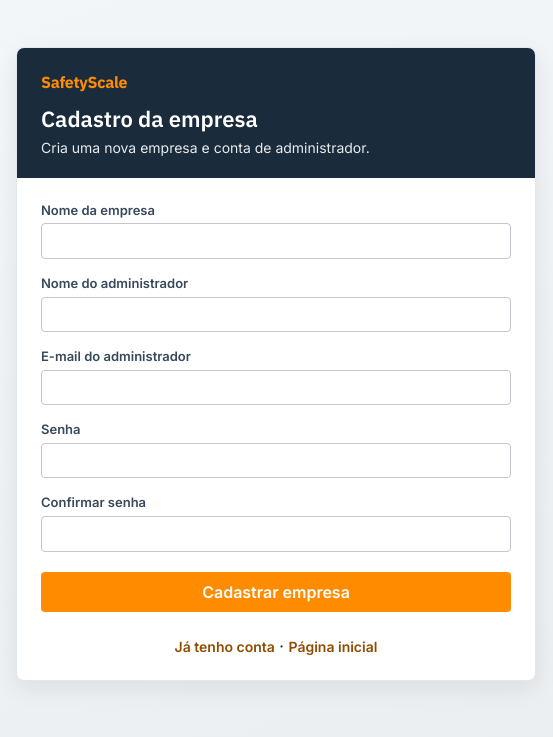
it: RegisterTenantPage › shows mismatch error when passwords differ
Type "Empresa LTDA" into the field labelled "Nome da empresa".
click(276, 241); type("Empresa LTDA")  # box [41,223,511,259]
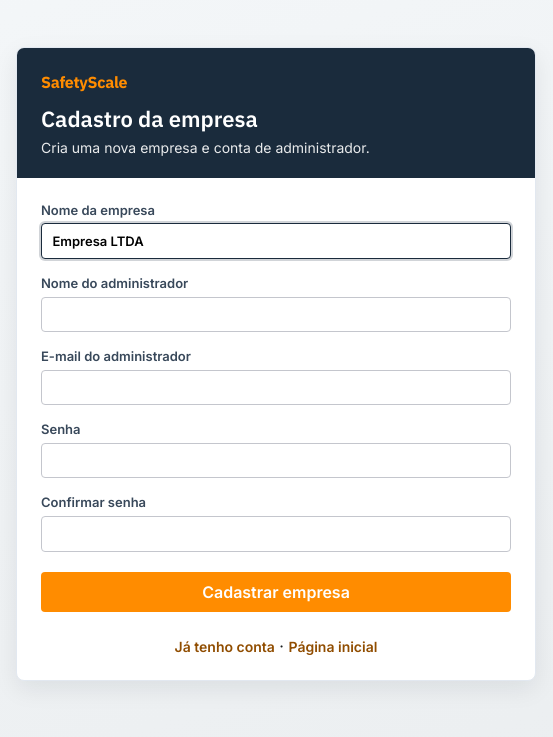
Type "Maria" into the field labelled "Nome do administrador".
click(276, 314); type("Maria")  # box [41,296,511,332]
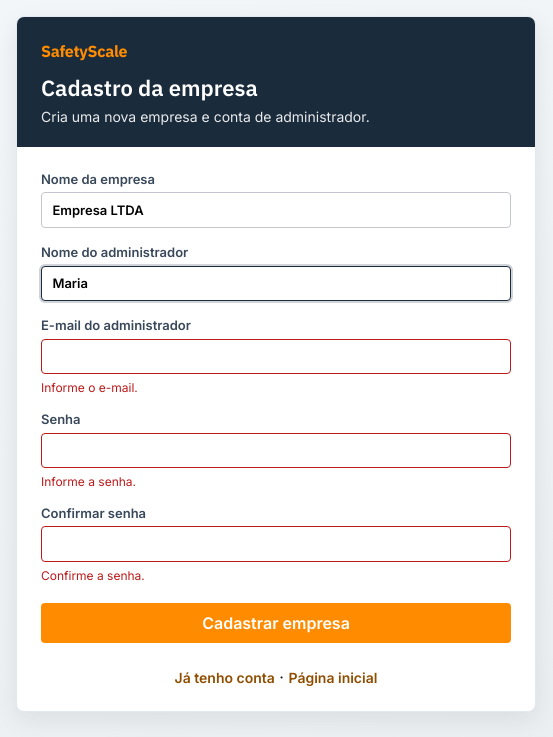
Type "maria@test.local" into the field labelled "E-mail do administrador Informe o e-mail.".
click(276, 357); type("maria@test.local")  # box [41,339,511,374]
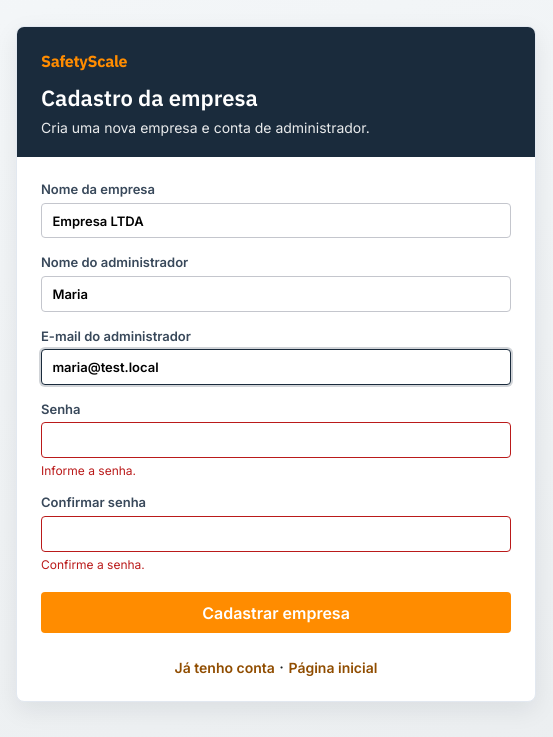
Type "Aa!23456z" into the password field labelled "Senha Informe a senha.".
click(276, 440); type("Aa!23456z")  # box [41,422,511,458]
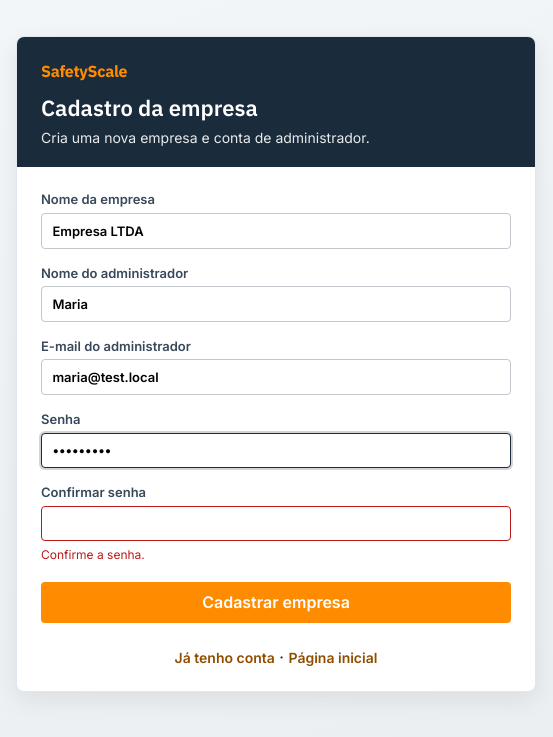
Type "Other!123Aa" into the password field labelled "Confirmar senha Confirme a senha.".
click(276, 524); type("Other!123Aa")  # box [41,506,511,541]
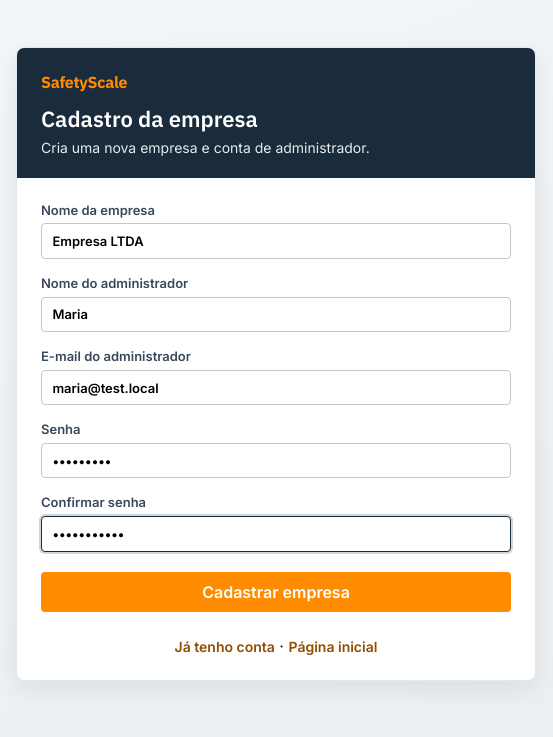
Click the button "Cadastrar empresa".
click(276, 592)  # box [41,572,511,612]
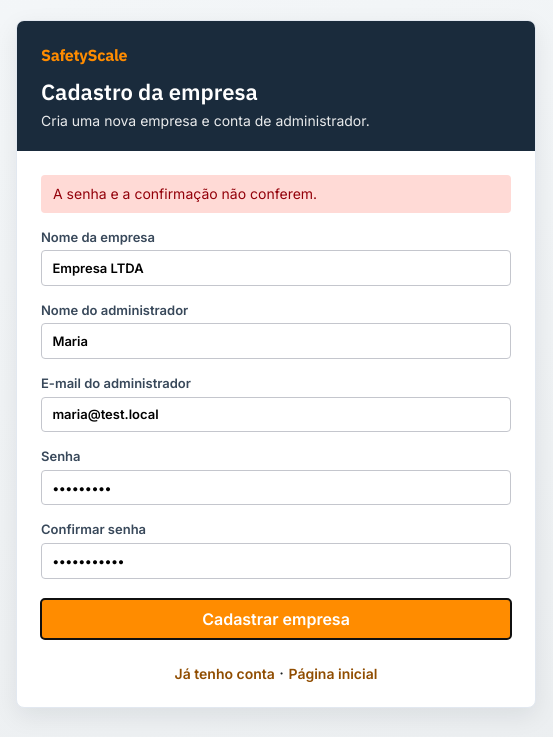
Expected: the message shows "não conferem", [53,185,317,202]
